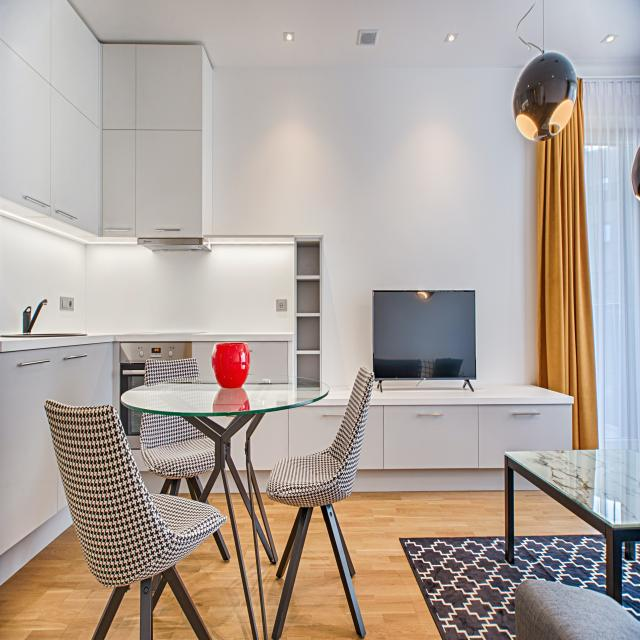beside table: (332, 371, 586, 488)
chair: (38, 396, 232, 602), (277, 378, 386, 631), (130, 355, 230, 499)
oven: (108, 330, 207, 488)
table: (513, 438, 640, 626), (126, 361, 338, 452)
television: (366, 278, 495, 412)
